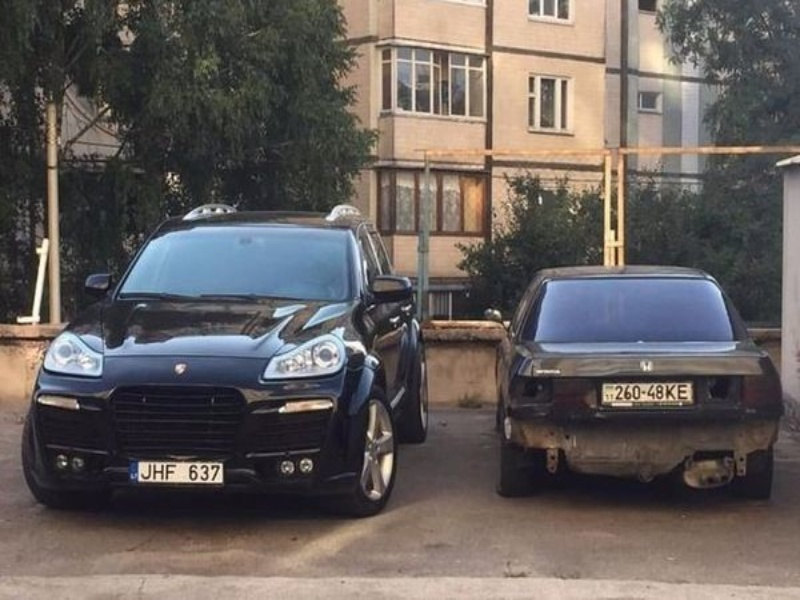car: (21, 204, 428, 520), (485, 265, 783, 501)
plate: (129, 459, 223, 482), (602, 383, 692, 401)
